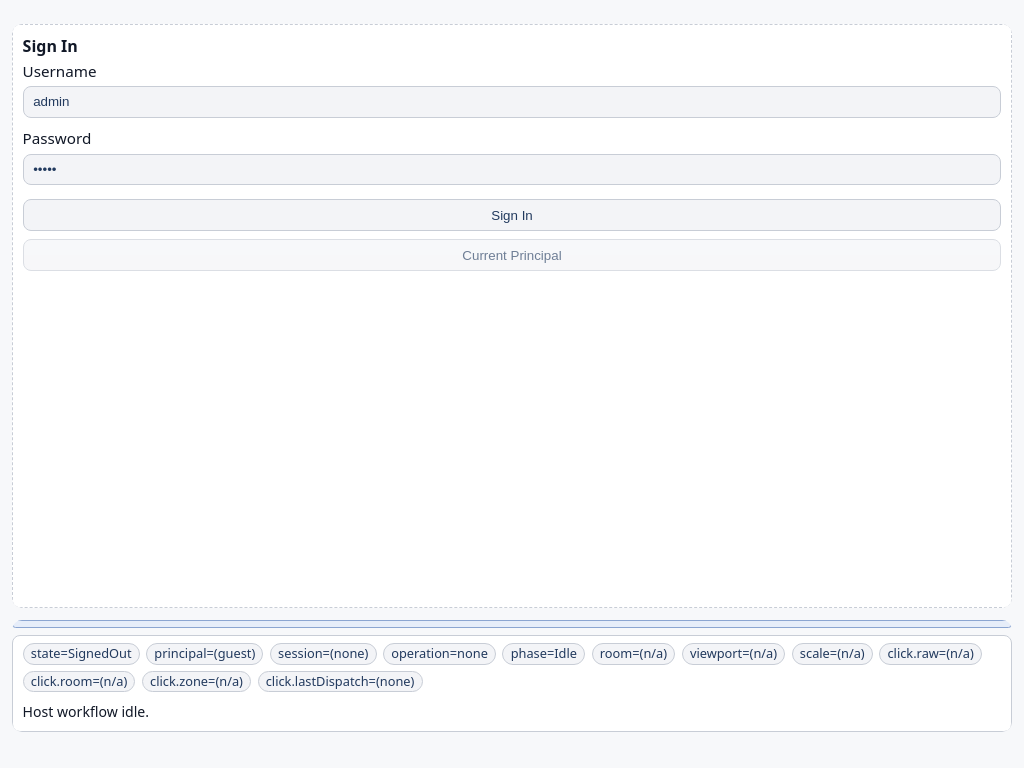
Test case: App override behavior › shows failed phase and diagnostics when sign-in fails
Click the button "Sign In": (512, 215) [23, 199, 1001, 231]
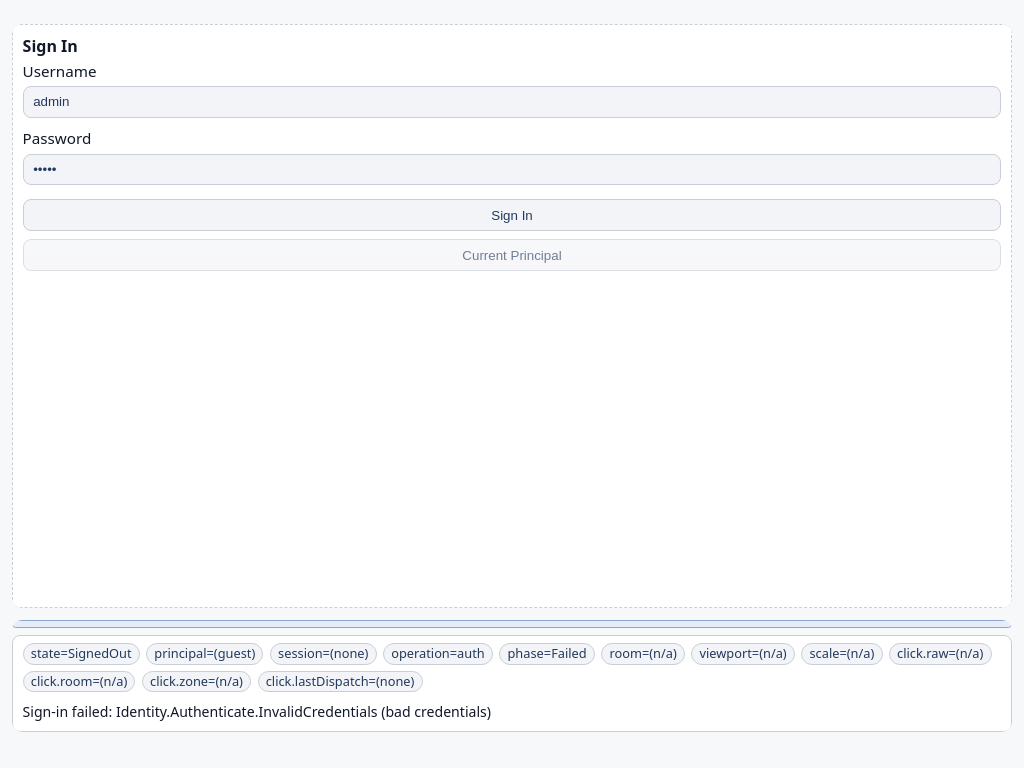
Expected: the text "phase=Failed" is shown, [499, 643, 595, 664]
Expected: the text "operation=auth" is shown, [383, 643, 493, 664]
Expected: the text "Sign-in failed: Identity.Authenticate.InvalidCredentials (bad credentials)" is shown, [23, 702, 491, 721]
